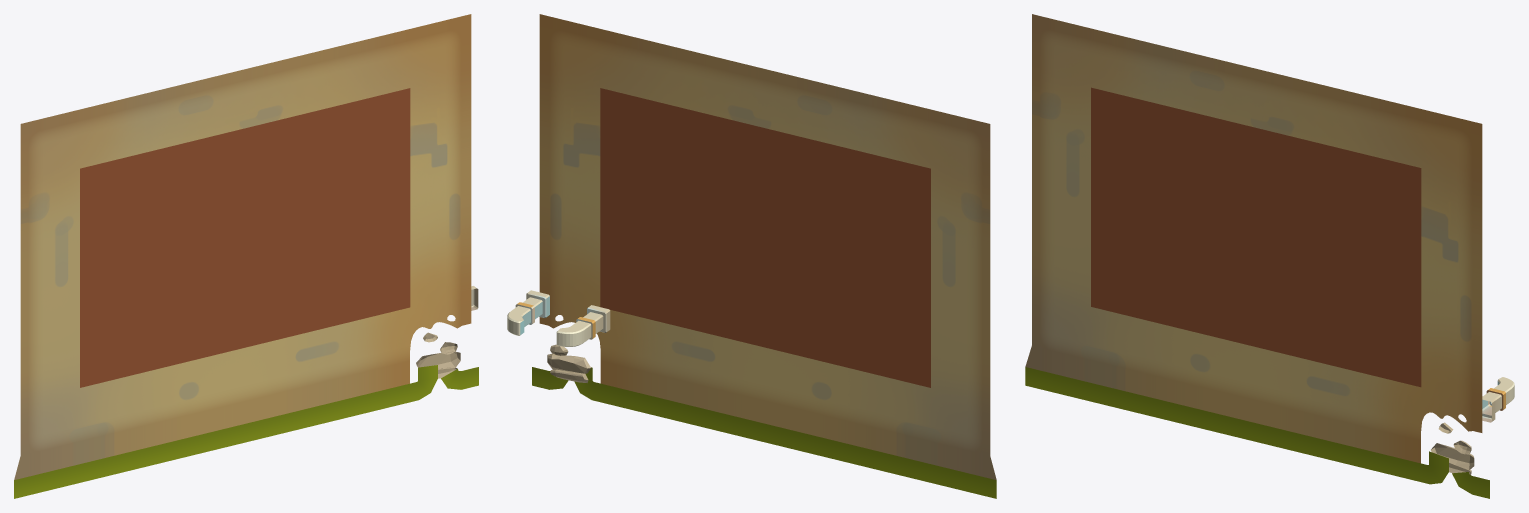
File: scene1_road.FBX
3 renders of one model, left to right at view 1: azimuth 30°, elevation 25°; view 2: azimuth 150°, elevation 25°; view 3: azimuth 330°, elevation 25°, orthographic.
Visible parts, largest first — view 1: scene1_road; view 2: scene1_road; view 3: scene1_road.
Part boxes in pixels (x1,y1,x2,y2): scene1_road: (14,14,478,498); scene1_road: (507,14,996,498); scene1_road: (1025,14,1514,498).
Size of the model in its own units: 1057 by 810 by 132.
Materials: 1 (1 with a texture image).
